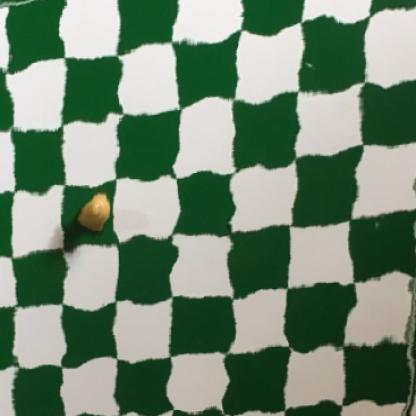white-pawn: (75, 183, 113, 239)
